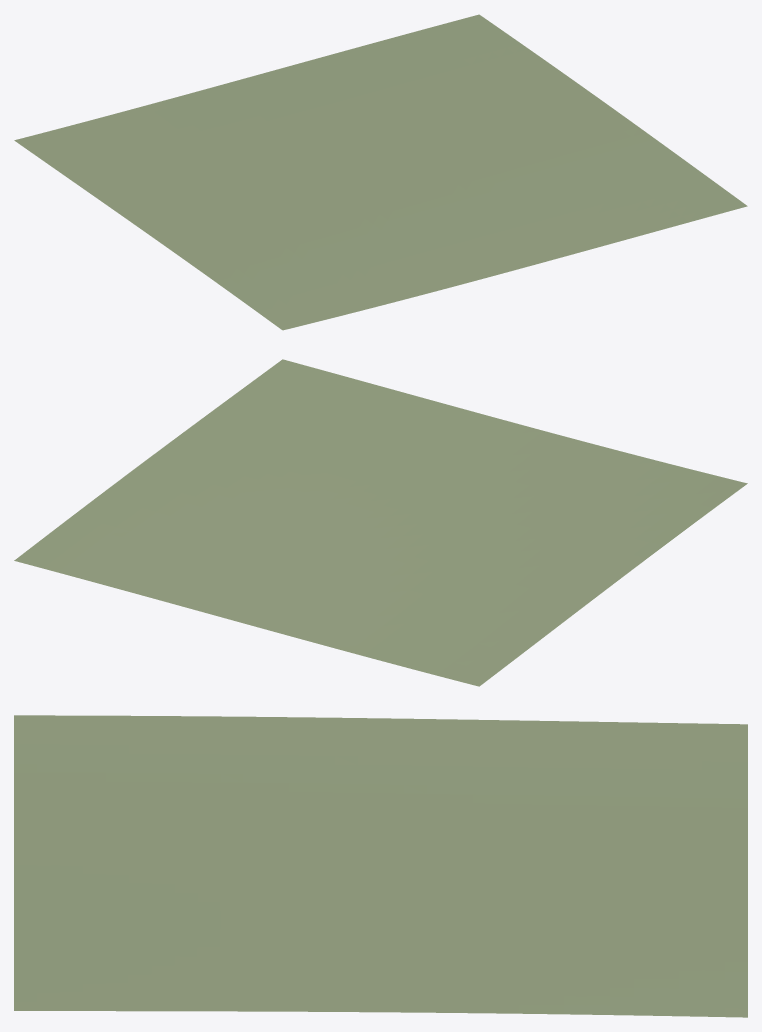
The model's file is expanse-5-19.glb.
3 renders of one model, top to bottom at view 1: azimuth 30°, elevation 25°; view 2: azimuth 150°, elevation 25°; view 3: azimuth 270°, elevation 25°, orthographic. The views are drawn at different scales.
Parts seen in each view (by area): view 1: expanse-5-19; view 2: expanse-5-19; view 3: expanse-5-19.
Part boxes in pixels (x1=…): expanse-5-19: x1=14, y1=14, x2=747, y2=330; expanse-5-19: x1=14, y1=359, x2=747, y2=686; expanse-5-19: x1=14, y1=715, x2=747, y2=1017.
Size of the model in its own units: 256 by 9.04 by 256.
